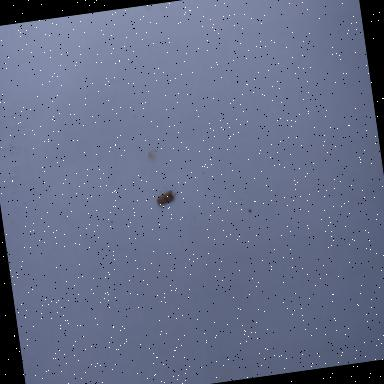pbw: (154, 189, 175, 209)
